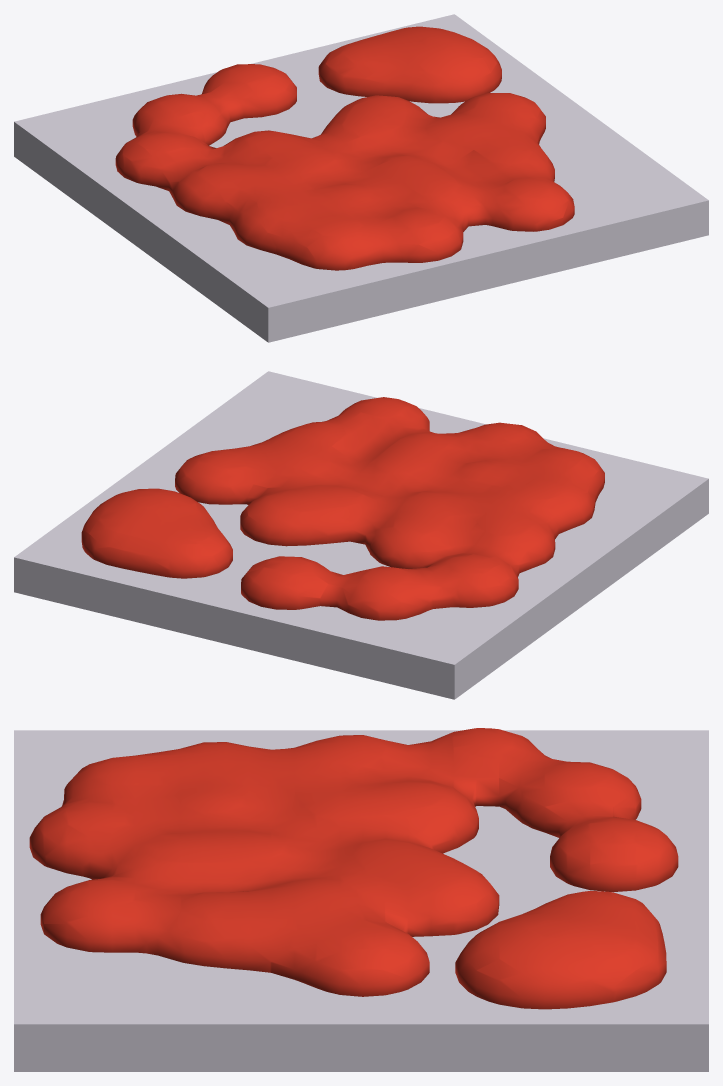
File: lava_lake.fbx
3 views of the same model, one above another, from view 1: azimuth 30°, elevation 25°; view 2: azimuth 150°, elevation 25°; view 3: azimuth 270°, elevation 25° (orthographic). The views are drawn at different scales.
Parts seen in each view (by area): view 1: lake, white base.004; view 2: lake, white base.004; view 3: lake, white base.004.
Part boxes in pixels (x1,y1,x2,y2): lake: [115, 26, 574, 270]; white base.004: [14, 14, 708, 342]; lake: [81, 397, 604, 620]; white base.004: [14, 371, 708, 699]; lake: [29, 728, 678, 1009]; white base.004: [14, 730, 708, 1071].
Size of the model in its own units: 321 by 47.31 by 321.
